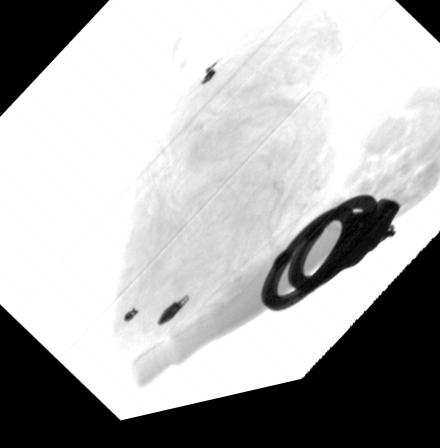HandCuffs: (258, 209, 400, 327)
